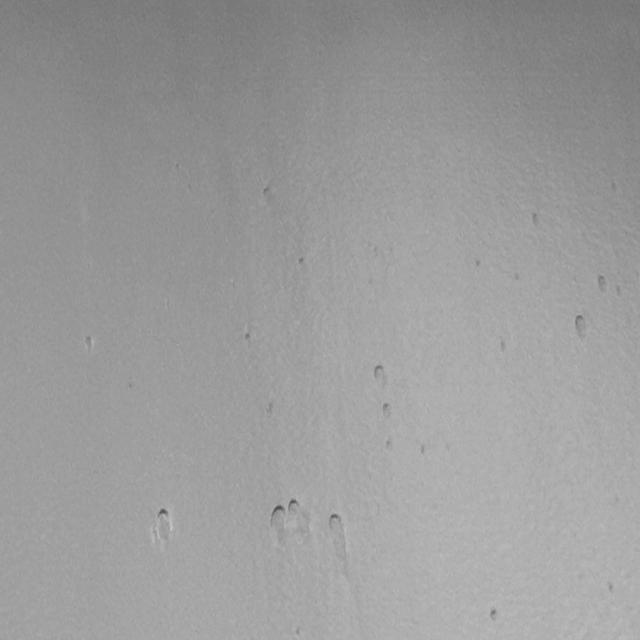pin holes: (322, 515, 350, 565), (151, 506, 175, 546), (266, 503, 290, 535), (570, 311, 590, 340), (370, 362, 390, 388), (492, 336, 512, 359), (528, 210, 548, 233), (286, 496, 303, 521), (258, 182, 277, 204), (602, 578, 621, 600), (593, 272, 610, 296), (82, 332, 98, 357), (485, 604, 503, 626), (294, 252, 311, 274), (240, 326, 258, 346), (379, 401, 395, 421), (383, 436, 396, 454), (264, 402, 277, 419), (613, 284, 626, 301), (416, 442, 428, 460), (473, 257, 485, 272), (126, 378, 136, 395), (292, 626, 304, 640), (174, 161, 182, 175)
